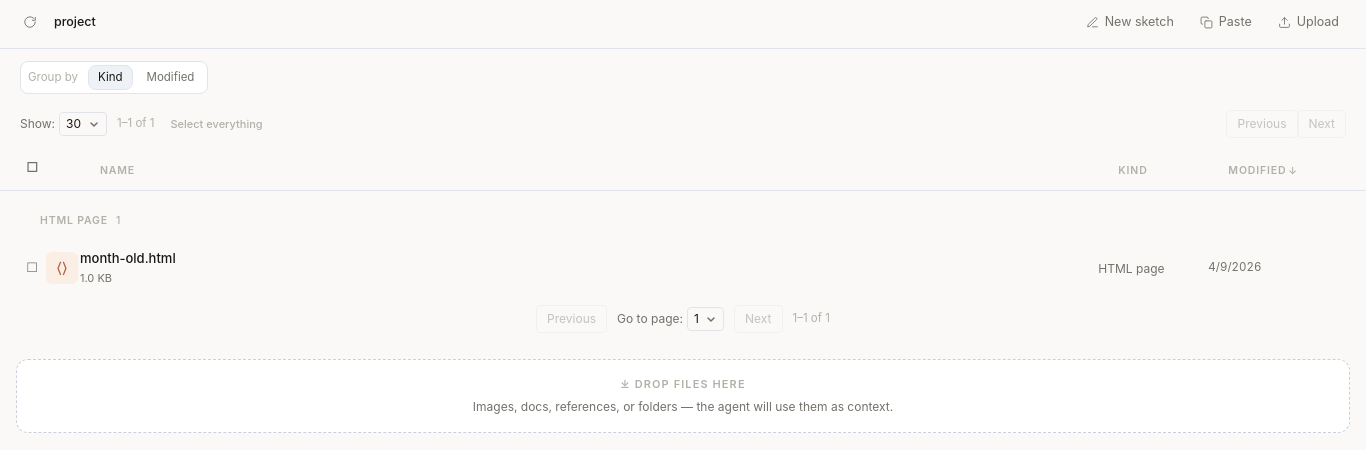
Test: DesignFilesPanel grouping › keeps files from thirty calendar days ago in the previous 30 days group
Step 1. Click the button "Modified" → click(170, 77), box [136,65,204,90]
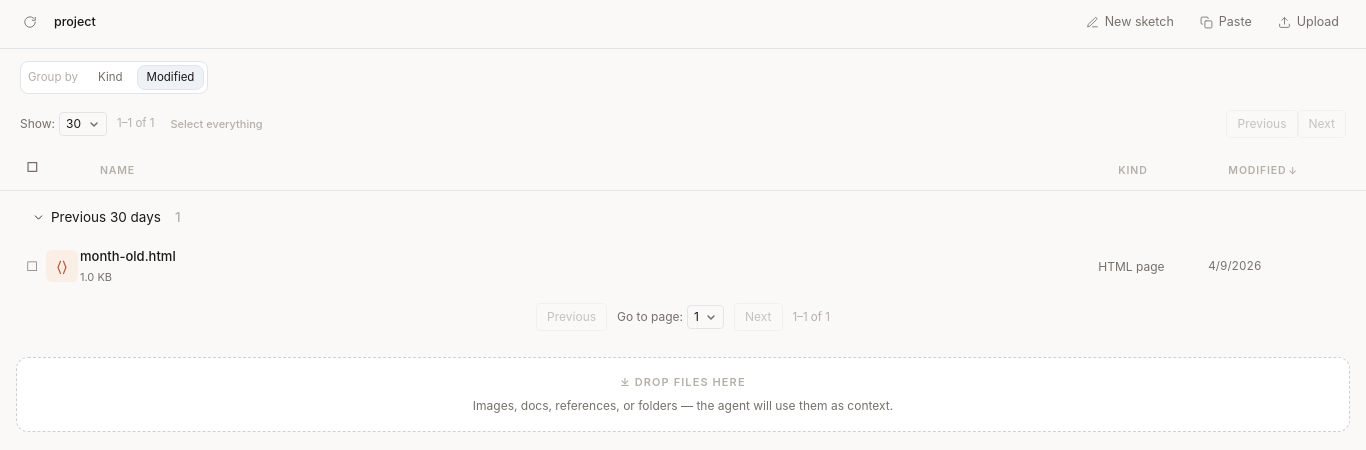
Expected: the row with test id "design-file-row-month-old.html" is shown, [0,237,1365,295]
Now the text "Previous 30 days" is shown, box [51,207,161,227]
